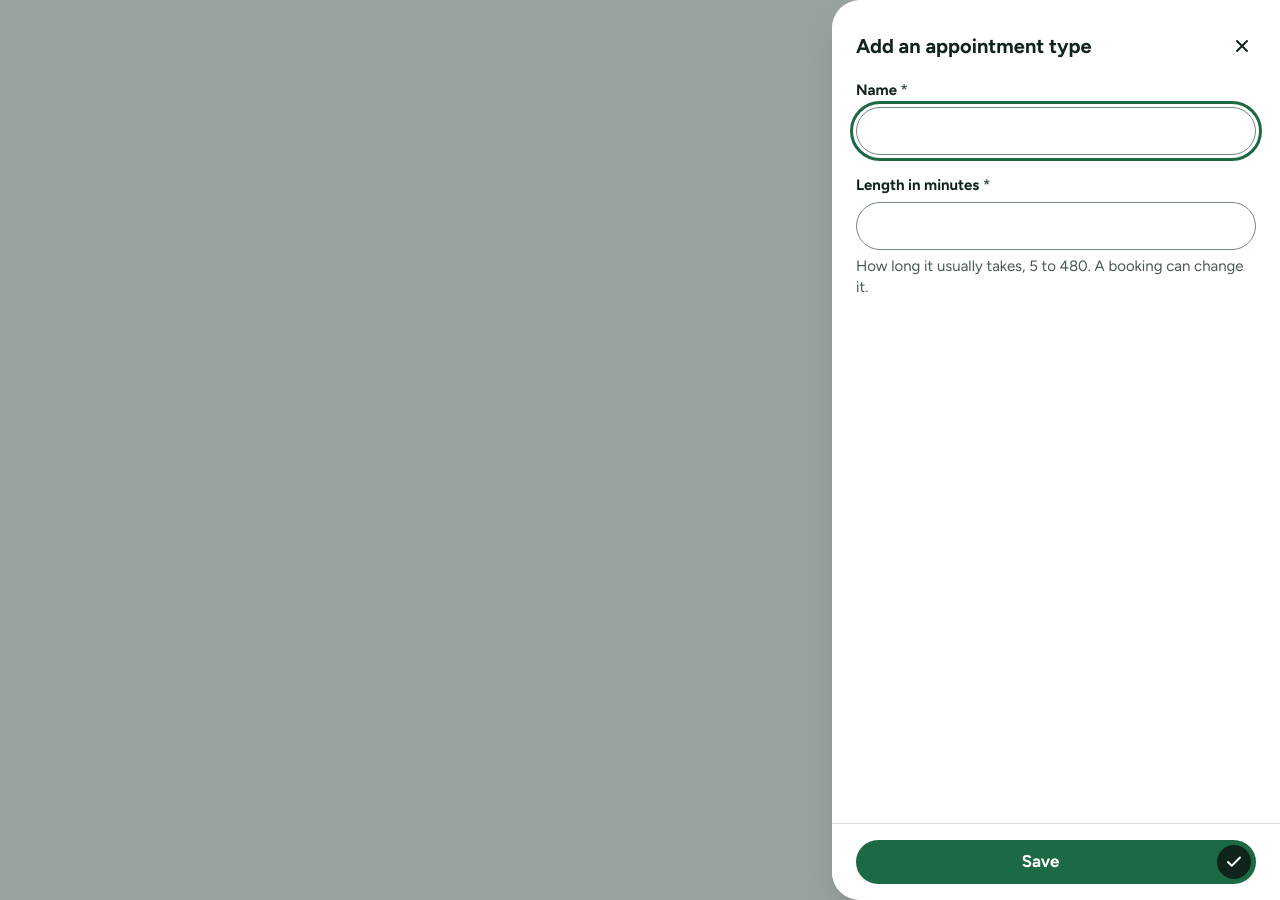
Test: AppointmentTypeSheet (plan §9, D32) › says when another type has the name
Type "Review" into the field labelled "Name *".
click(1056, 131); type("Review")  # box [856,107,1256,155]
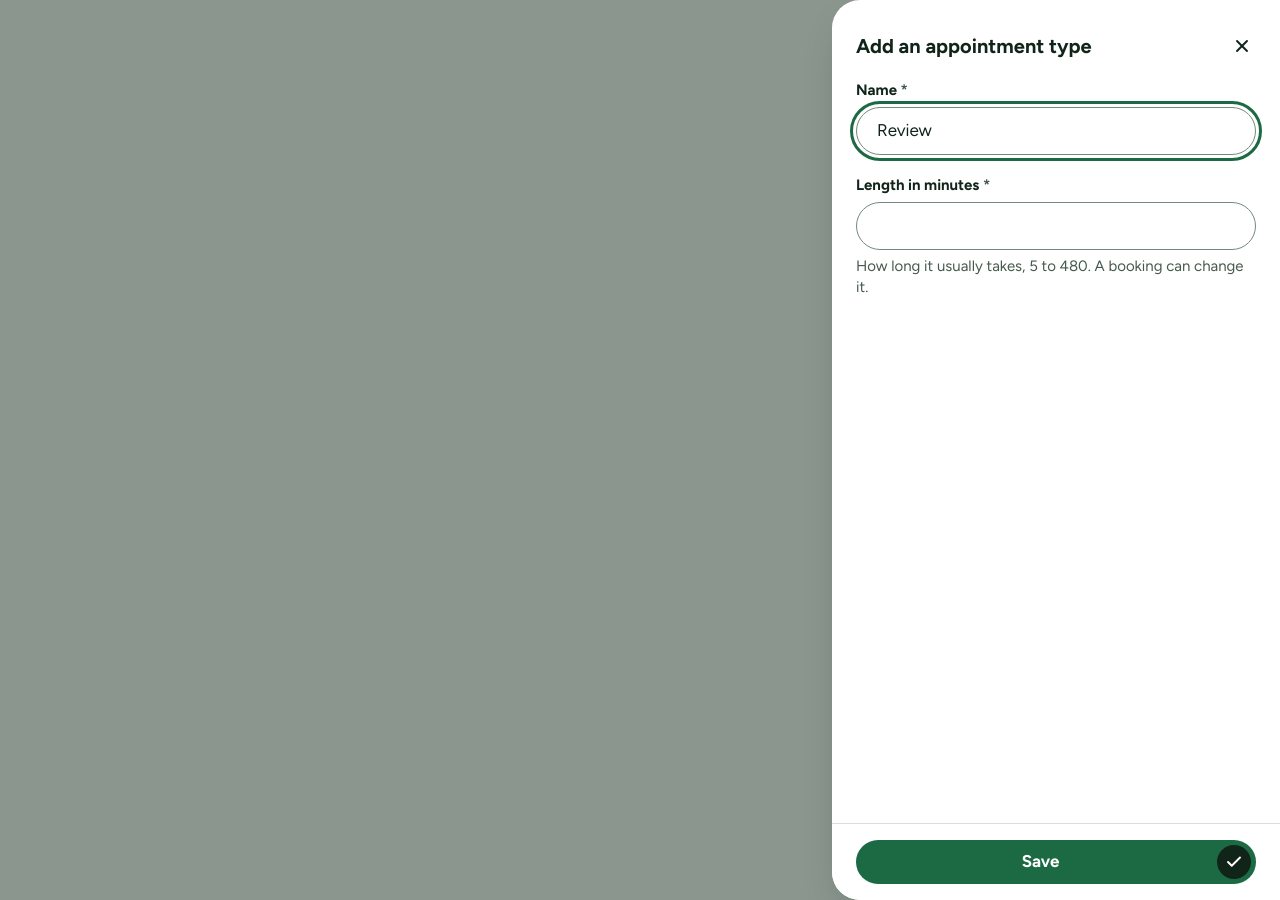
Type "15" into the field labelled "Length in minutes *".
click(1056, 226); type("15")  # box [856,202,1256,250]
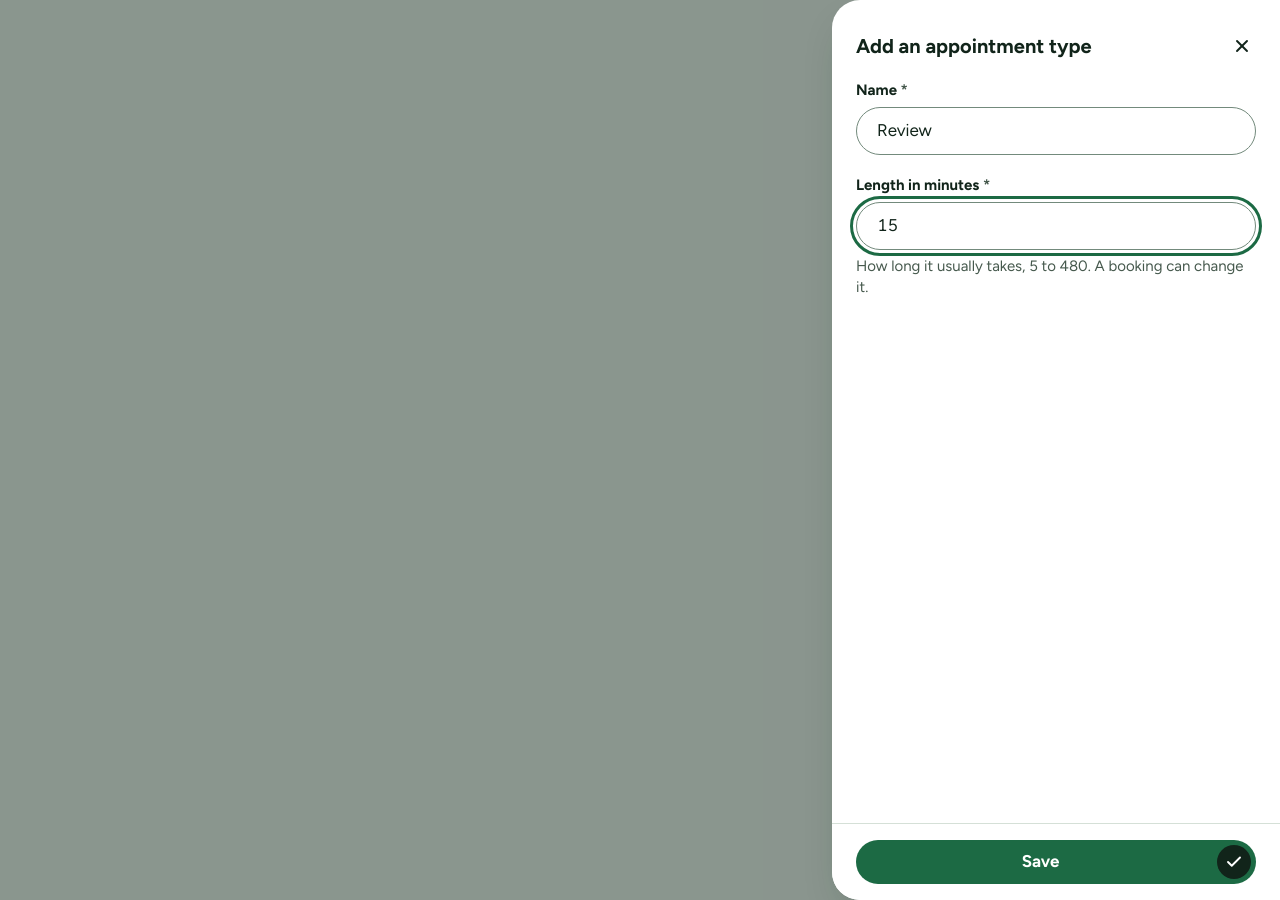
Click the button "Save".
click(1056, 862)  # box [856,840,1256,884]
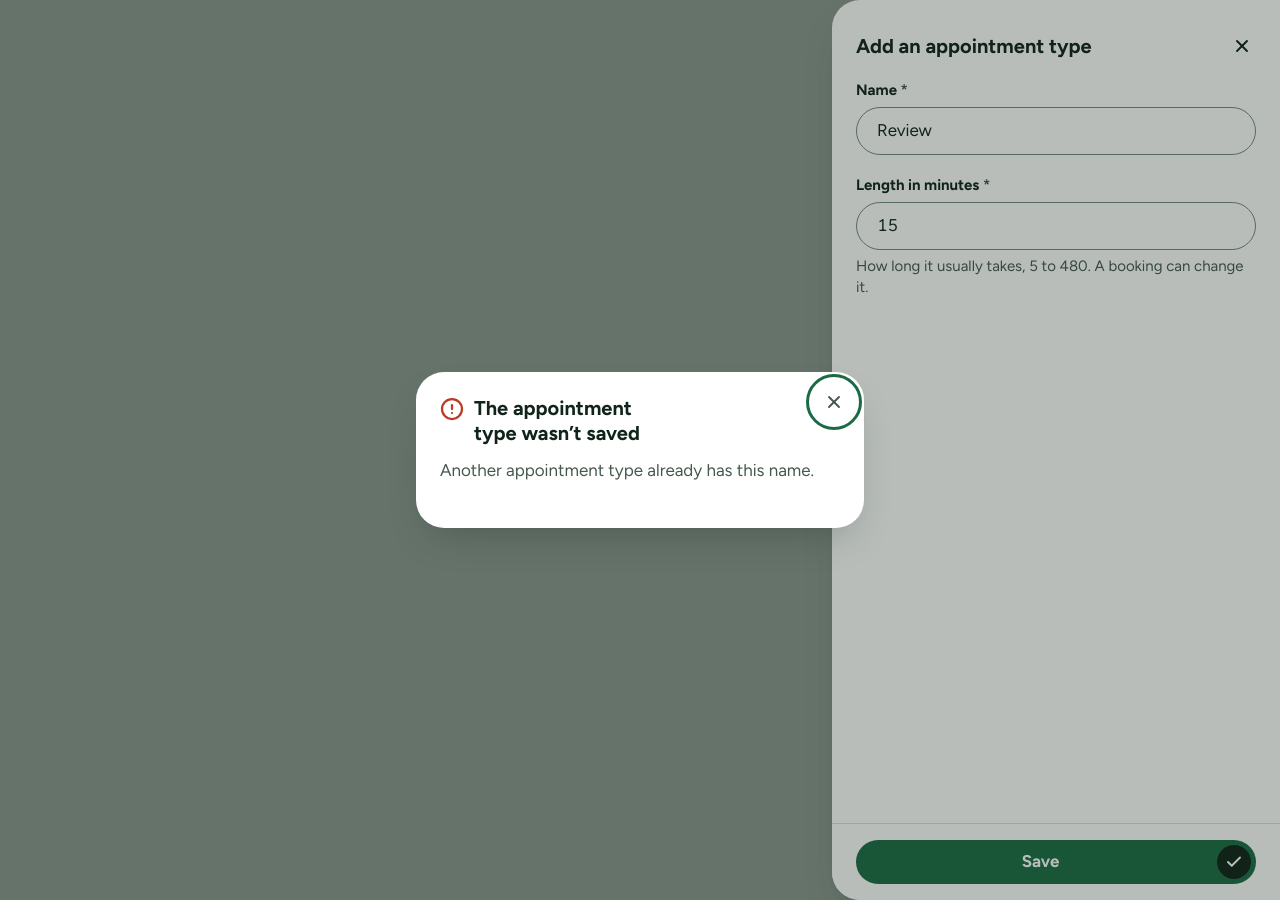
Check: the dialog "The appointment type wasn’t saved" shows "Another appointment type already has this name.", box [440,460,814,480]
